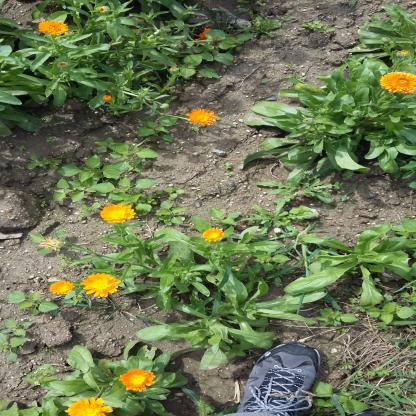marigold: (274, 296, 297, 334), (72, 0, 92, 36), (398, 306, 415, 348), (206, 282, 224, 315), (370, 263, 389, 294), (109, 200, 124, 229), (20, 349, 34, 376), (228, 191, 242, 214), (281, 343, 294, 365)
